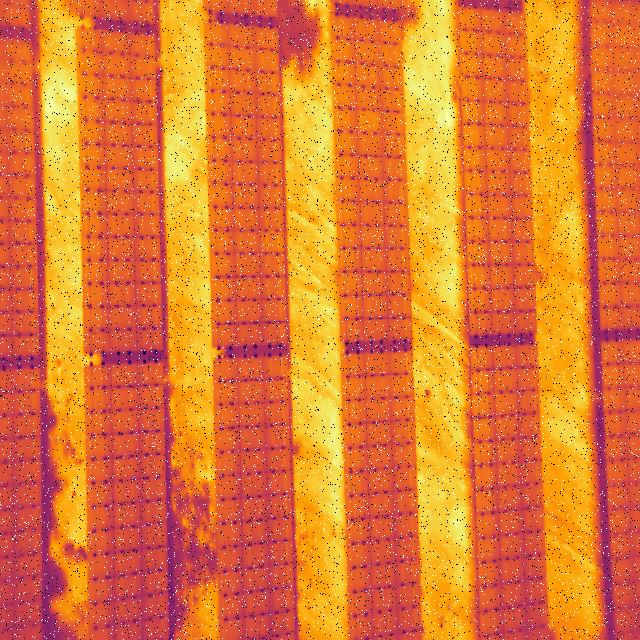Hotspot: (358, 110, 382, 130)
